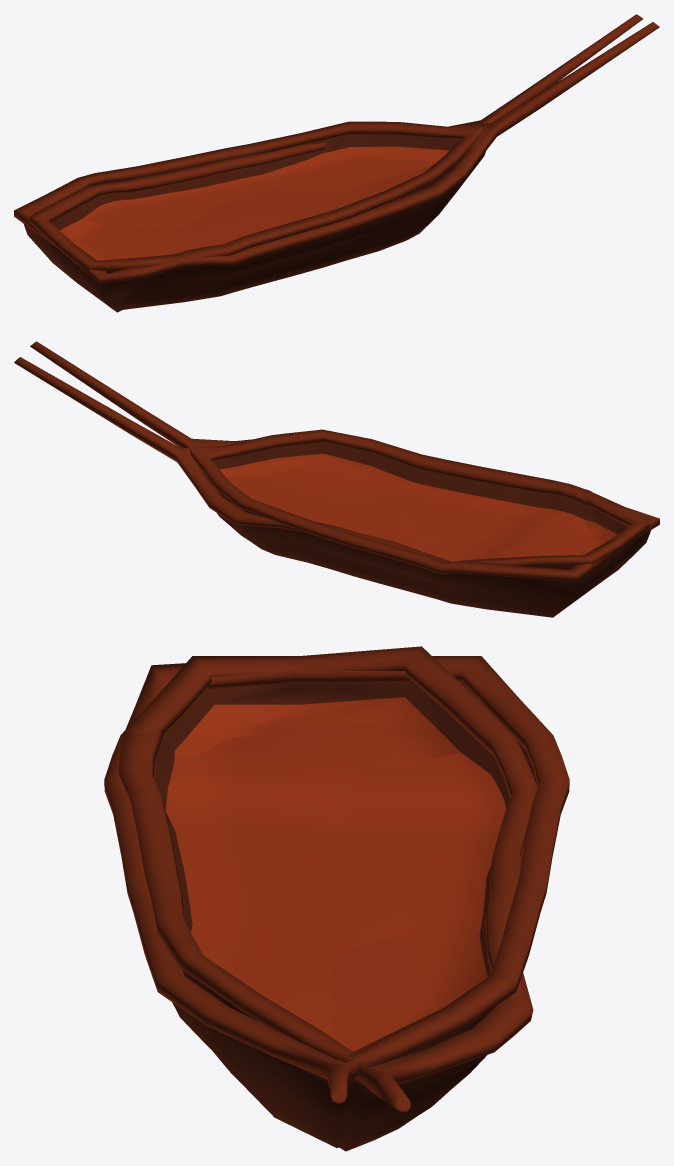
File: boat.glb
3 renders of one model, top to bottom at view 1: azimuth 30°, elevation 25°; view 2: azimuth 150°, elevation 25°; view 3: azimuth 270°, elevation 25°, orthographic. The views are drawn at different scales.
Visible parts, largest first — view 1: Cube.001, Cube.002; view 2: Cube.002, Cube.001; view 3: Cube.002, Cube.001.
Boxes of the visible parts, x1=… form: Cube.001: x1=14, y1=22, x2=659, y2=309; Cube.002: x1=29, y1=14, x2=642, y2=312; Cube.002: x1=14, y1=357, x2=659, y2=588; Cube.001: x1=30, y1=341, x2=649, y2=617; Cube.002: x1=118, y1=646, x2=537, y2=1151; Cube.001: x1=104, y1=656, x2=569, y2=1147.
Bounding box in the file's own units: 18.26 × 4.13 × 6.32.
